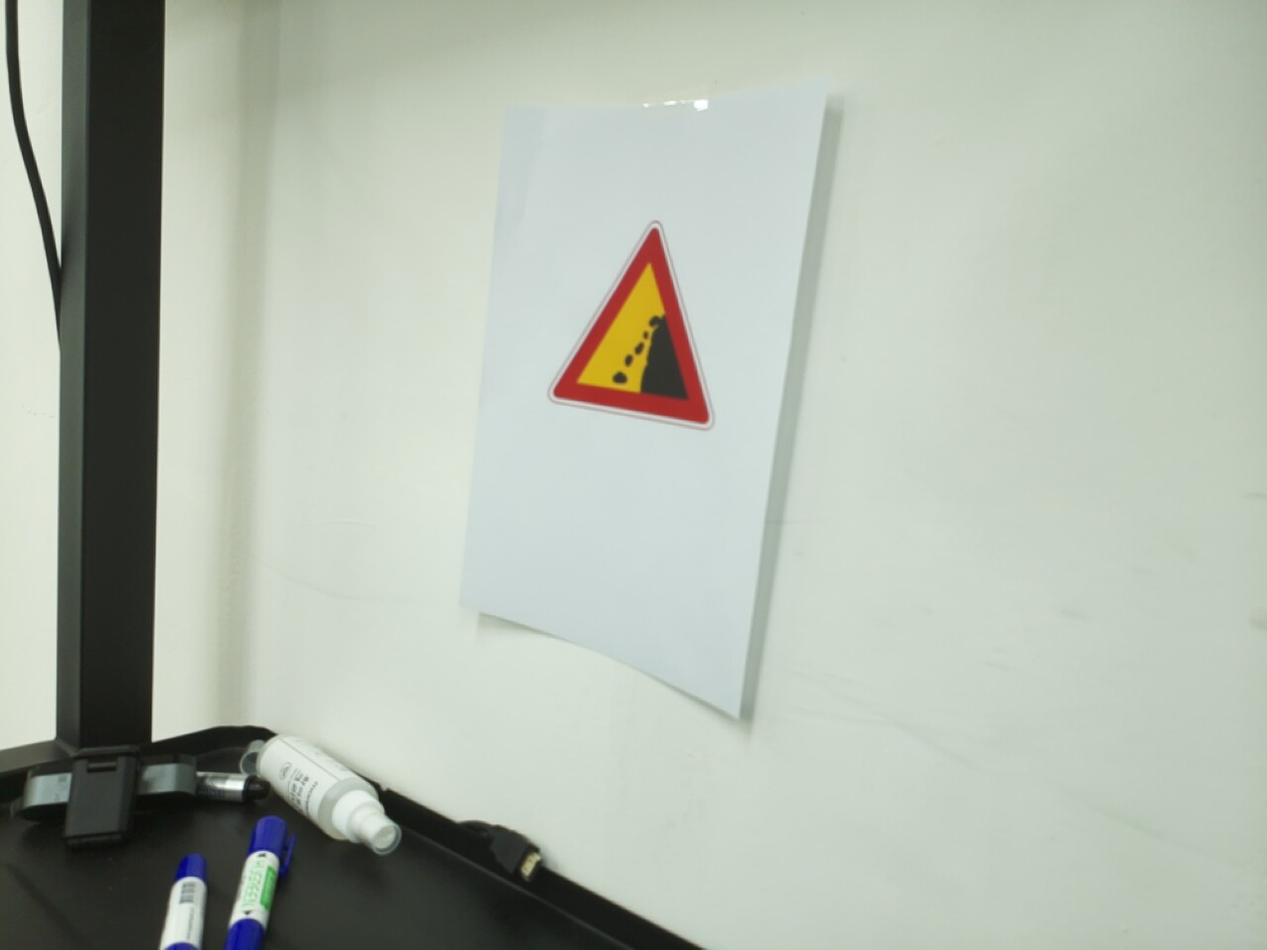falling_rocks: (546, 220, 716, 432)
